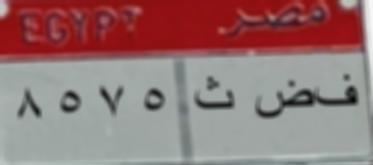5: (58, 82, 84, 119), (142, 87, 170, 118)
7: (92, 80, 126, 125)
8: (11, 84, 43, 127)
daad: (253, 80, 316, 125)
faa: (316, 68, 361, 119)
thaa: (193, 71, 238, 116)
